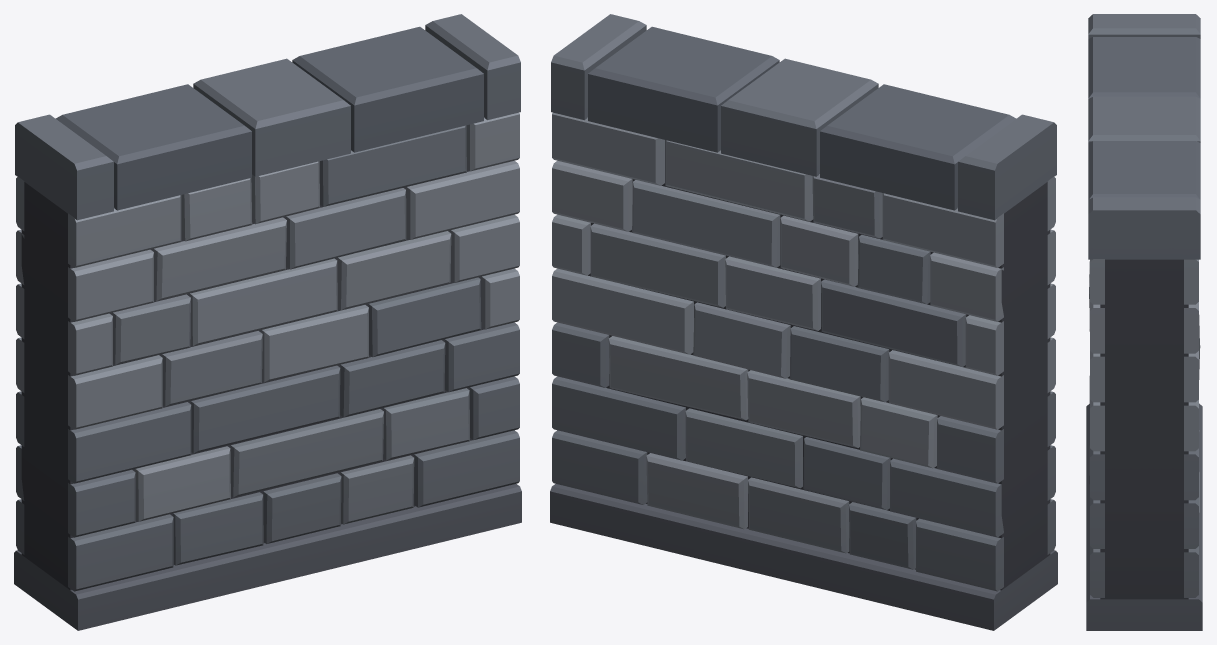
File: wall_ashlar_B.glb
3 views of the same model, side by side, from view 1: azimuth 30°, elevation 25°; view 2: azimuth 150°, elevation 25°; view 3: azimuth 270°, elevation 25° (orthographic). The views are drawn at different scales.
Parts seen in each view (by area): view 1: Item; view 2: Item; view 3: Item.
Boxes of the visible parts, box(x1,y1,x2,y2) form: Item: box(14, 14, 521, 630); Item: box(550, 14, 1057, 630); Item: box(1086, 14, 1202, 630).
Size of the model in its own units: 4 by 4 by 1.
Materials: 1 (1 with a texture image).
